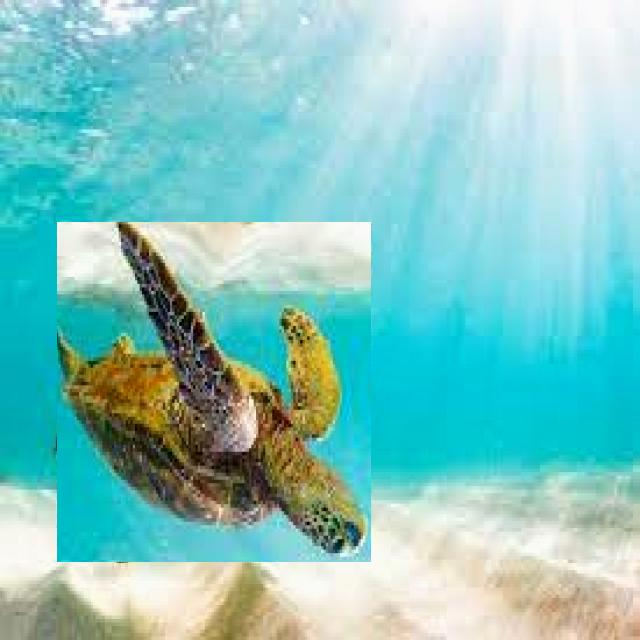Sea turtle: (57, 222, 371, 562)
